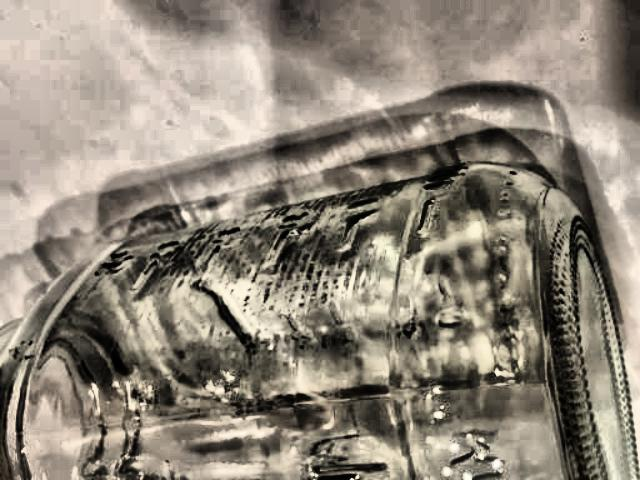Almennt: (0, 156, 640, 480)
